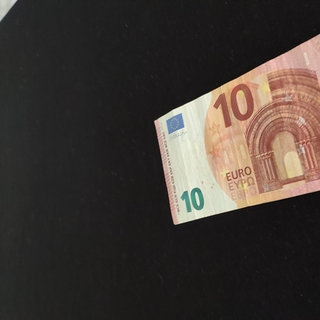10EUROFront: (153, 15, 320, 225)
